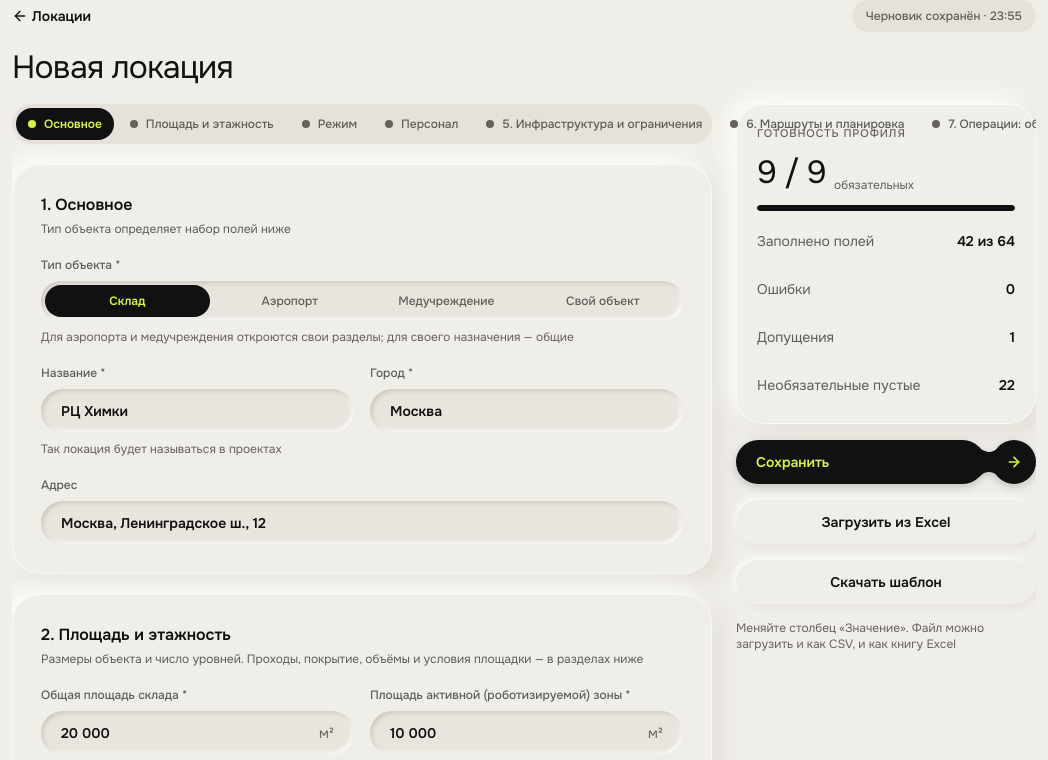
Scenario: LocationNewPage (экран 14) › reports required fields on submit and focuses the first one
Step 1. Clear the field labelled "Название *" → (198, 411), box [61, 401, 334, 421]
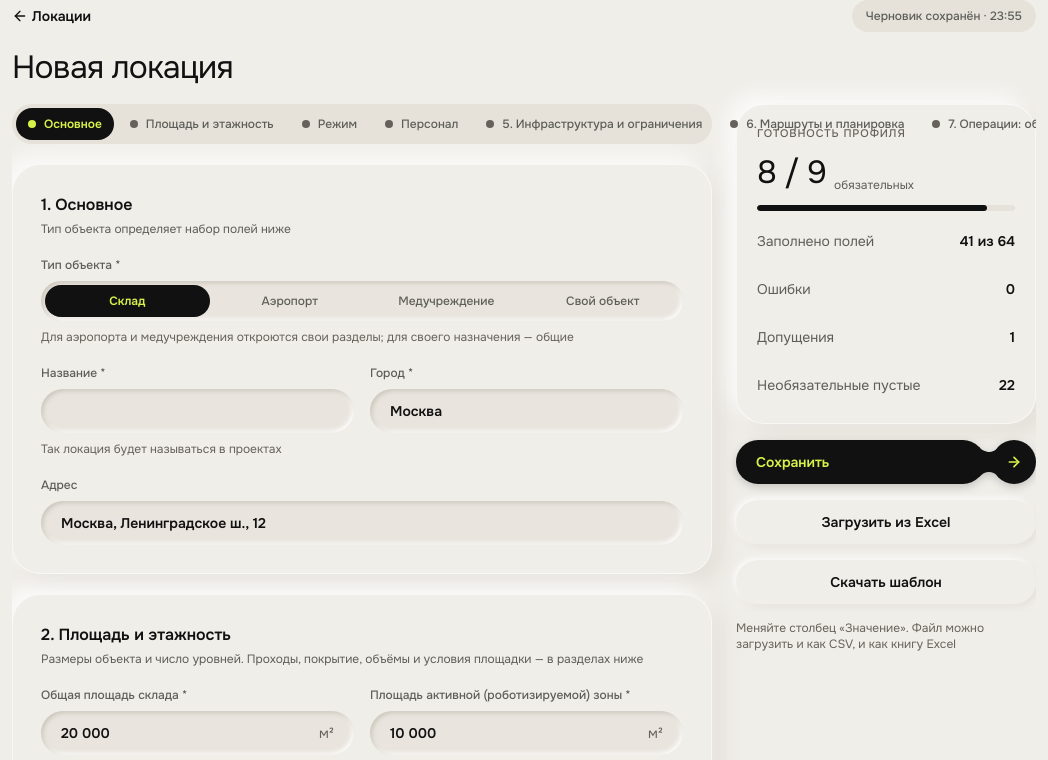
Step 2. Click the button "Сохранить" → (886, 462), box [736, 440, 1036, 484]
(page scrolled)
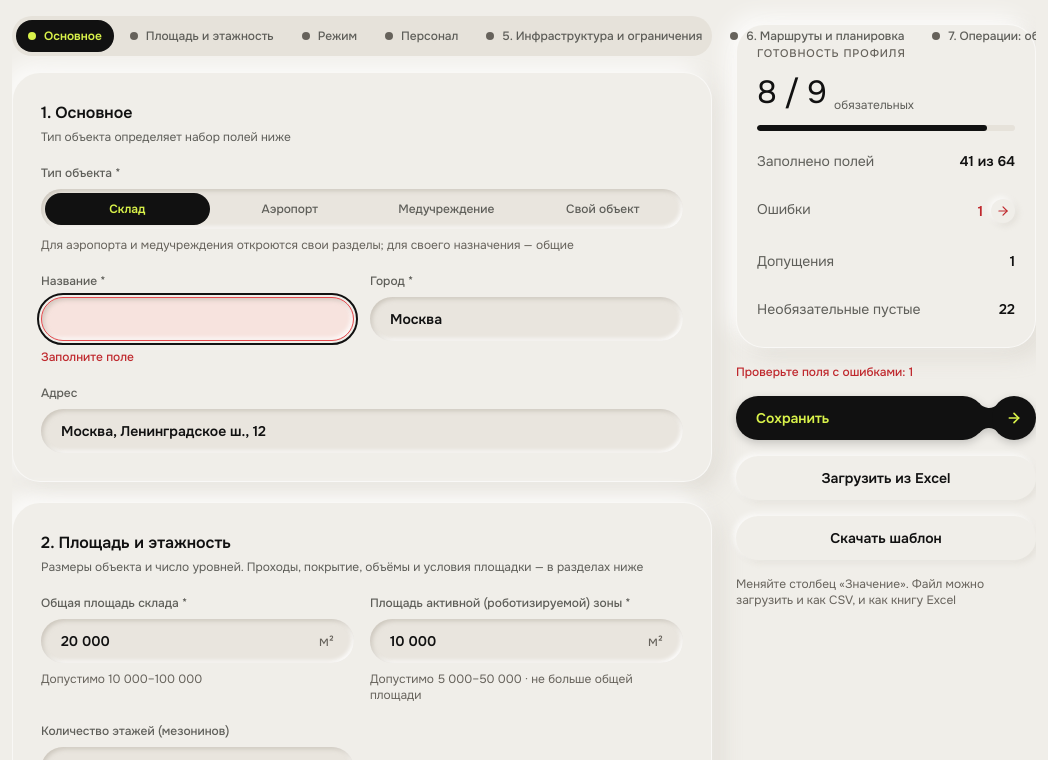
Expected: the text "Проверьте поля с ошибками: 1" is shown, [736, 364, 913, 380]
